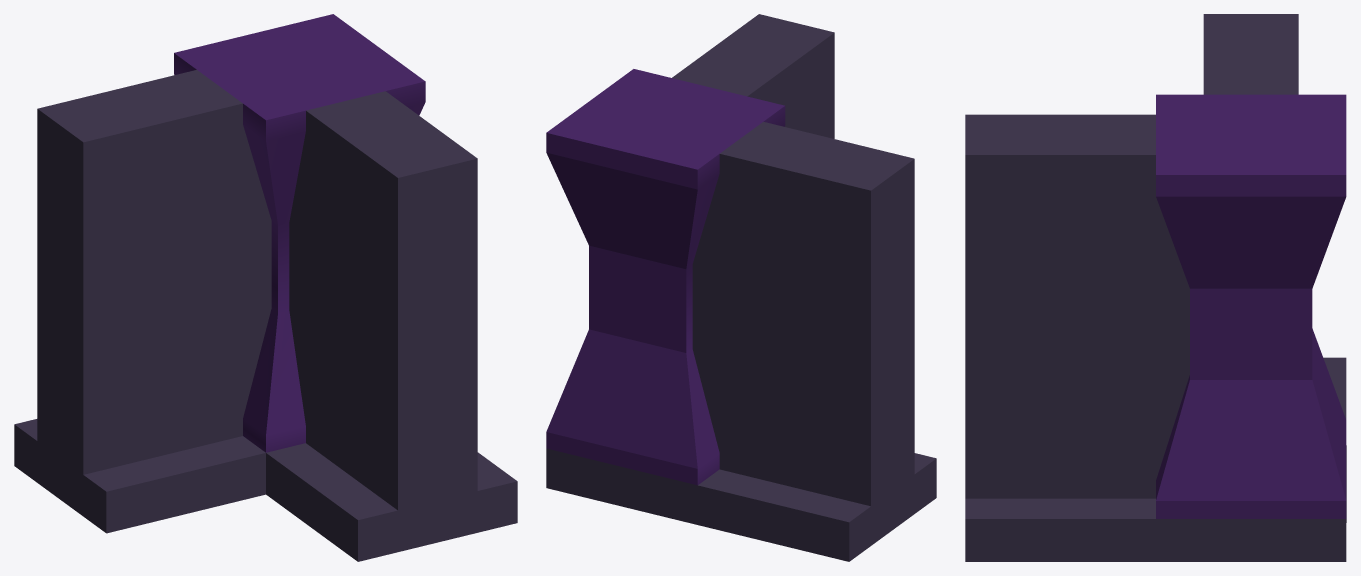
The model's file is LWall.fbx.
The picture shows the model from 3 angles, left to right: view 1: azimuth 30°, elevation 25°; view 2: azimuth 150°, elevation 25°; view 3: azimuth 270°, elevation 25°; orthographic projection. The views are drawn at different scales.
Parts seen in each view (by area): view 1: L_Wall; view 2: L_Wall; view 3: L_Wall.
Boxes of the visible parts, x1,y1,x2,y2 form: L_Wall: [14, 14, 517, 561]; L_Wall: [546, 14, 936, 561]; L_Wall: [965, 14, 1346, 561].
Size of the model in its own units: 400 by 448 by 400.
